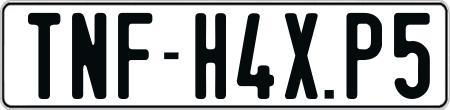4: (236, 11, 274, 102)
5: (394, 10, 435, 97)
F: (115, 10, 155, 99)
H: (193, 11, 225, 100)
N: (72, 11, 107, 102)
P: (346, 12, 385, 99)
T: (28, 12, 66, 103)
X: (285, 11, 319, 100)
